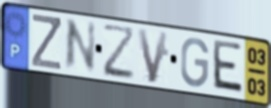E: (211, 38, 245, 97)
G: (179, 36, 211, 90)
N: (62, 17, 97, 73)
V: (135, 27, 171, 86)
Z: (101, 23, 136, 83), (30, 12, 63, 72)
